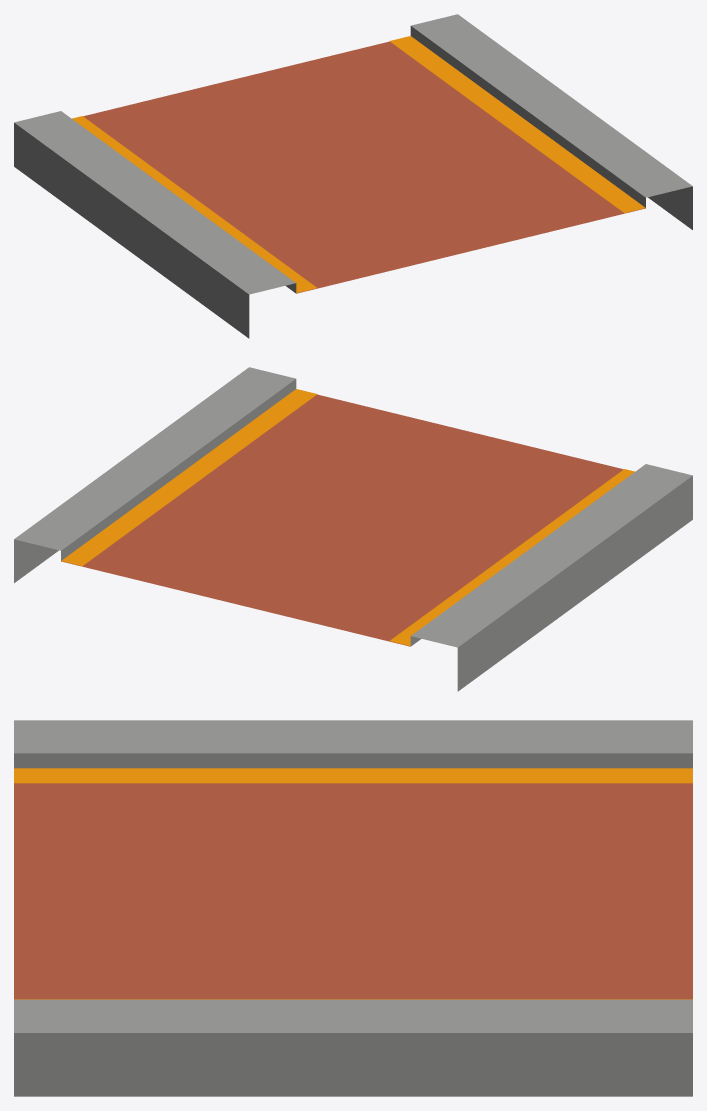
The model's file is Road_A_12.fbx.
The picture shows the model from 3 angles, top to bottom: view 1: azimuth 30°, elevation 25°; view 2: azimuth 150°, elevation 25°; view 3: azimuth 270°, elevation 25°; orthographic projection. The views are drawn at different scales.
Visible parts, largest first — view 1: Road_A_12; view 2: Road_A_12; view 3: Road_A_12.
Part boxes in pixels (bbox=[...]): Road_A_12: bbox=[14, 14, 692, 338]; Road_A_12: bbox=[14, 367, 692, 691]; Road_A_12: bbox=[14, 720, 692, 1096].
Bounding box in the file's own units: 436 × 41.48 × 400.
